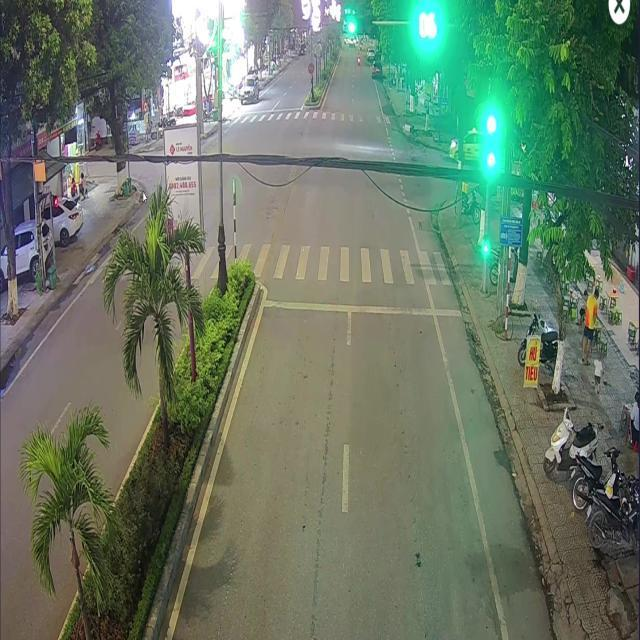green_light: (484, 110, 498, 172), (345, 13, 372, 38)
stop_line: (262, 299, 460, 316)
